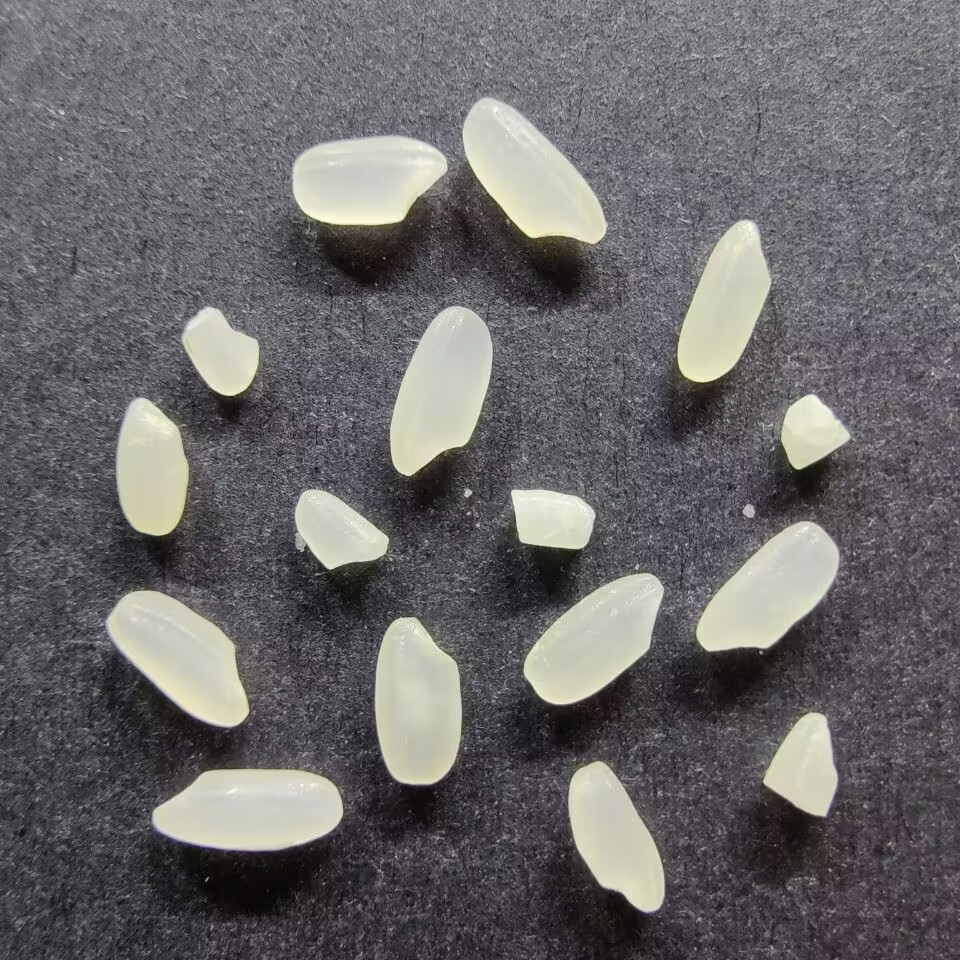broken: (760, 709, 839, 820), (293, 487, 390, 573), (178, 304, 260, 397), (776, 392, 852, 471), (508, 486, 598, 552)
rice: (460, 95, 609, 246), (104, 588, 251, 729), (694, 519, 841, 653), (522, 569, 665, 706), (388, 304, 494, 478), (674, 217, 773, 385), (149, 767, 343, 852), (565, 759, 666, 916), (371, 615, 463, 787), (291, 133, 448, 228), (113, 395, 191, 538)
